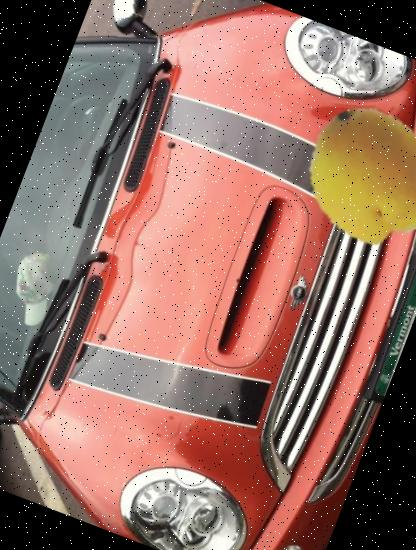Peach: (281, 86, 416, 264)
